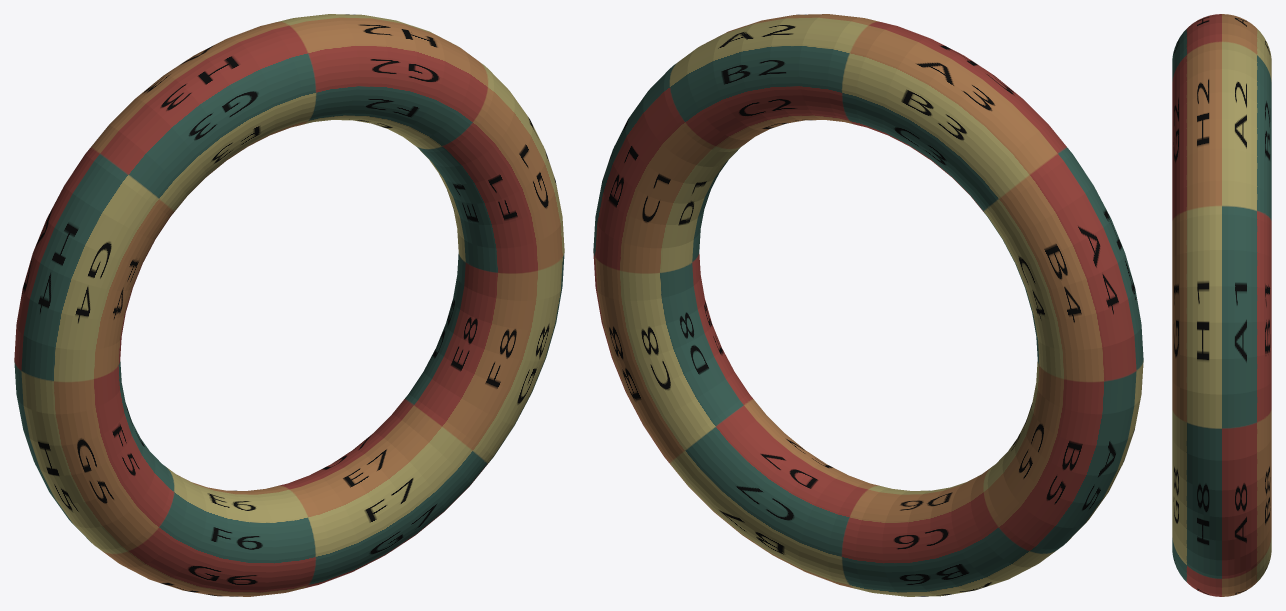
The model's file is texture_torus_R15_r8.glb.
3 renders of one model, left to right at view 1: azimuth 30°, elevation 25°; view 2: azimuth 150°, elevation 25°; view 3: azimuth 270°, elevation 25°, orthographic. The views are drawn at different scales.
Visible parts, largest first — view 1: world; view 2: world; view 3: world.
Boxes of the visible parts, x1,y1,x2,y2 form: world: (14,14,564,596); world: (593,14,1143,596); world: (1172,14,1271,596).
Bounding box in the file's own units: 24.13 × 24.09 × 4.13.
1 material, 1 textured.
